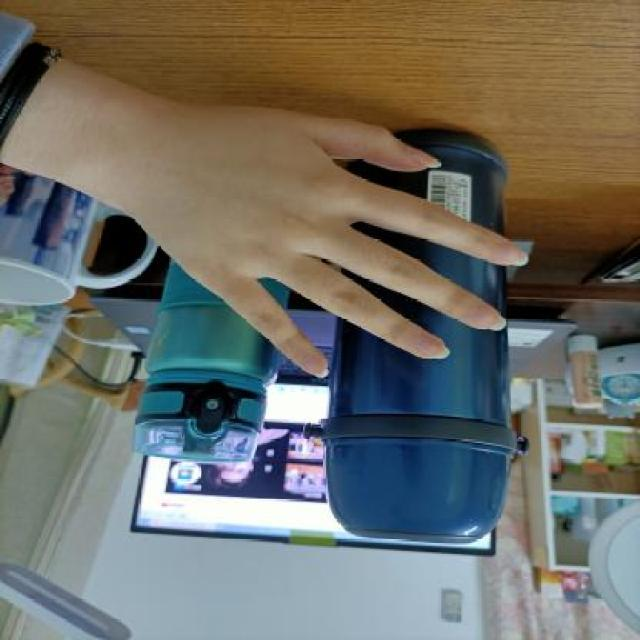bare_hand: (115, 76, 528, 398)
